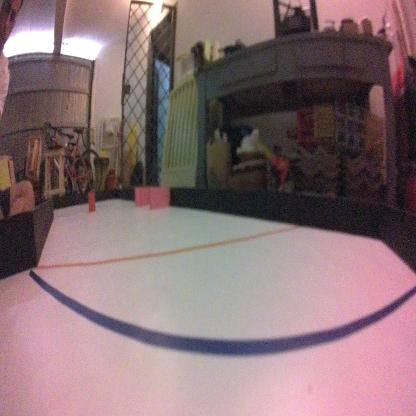magenta: (144, 182, 169, 212), (134, 183, 150, 203)
red: (87, 189, 96, 218)
